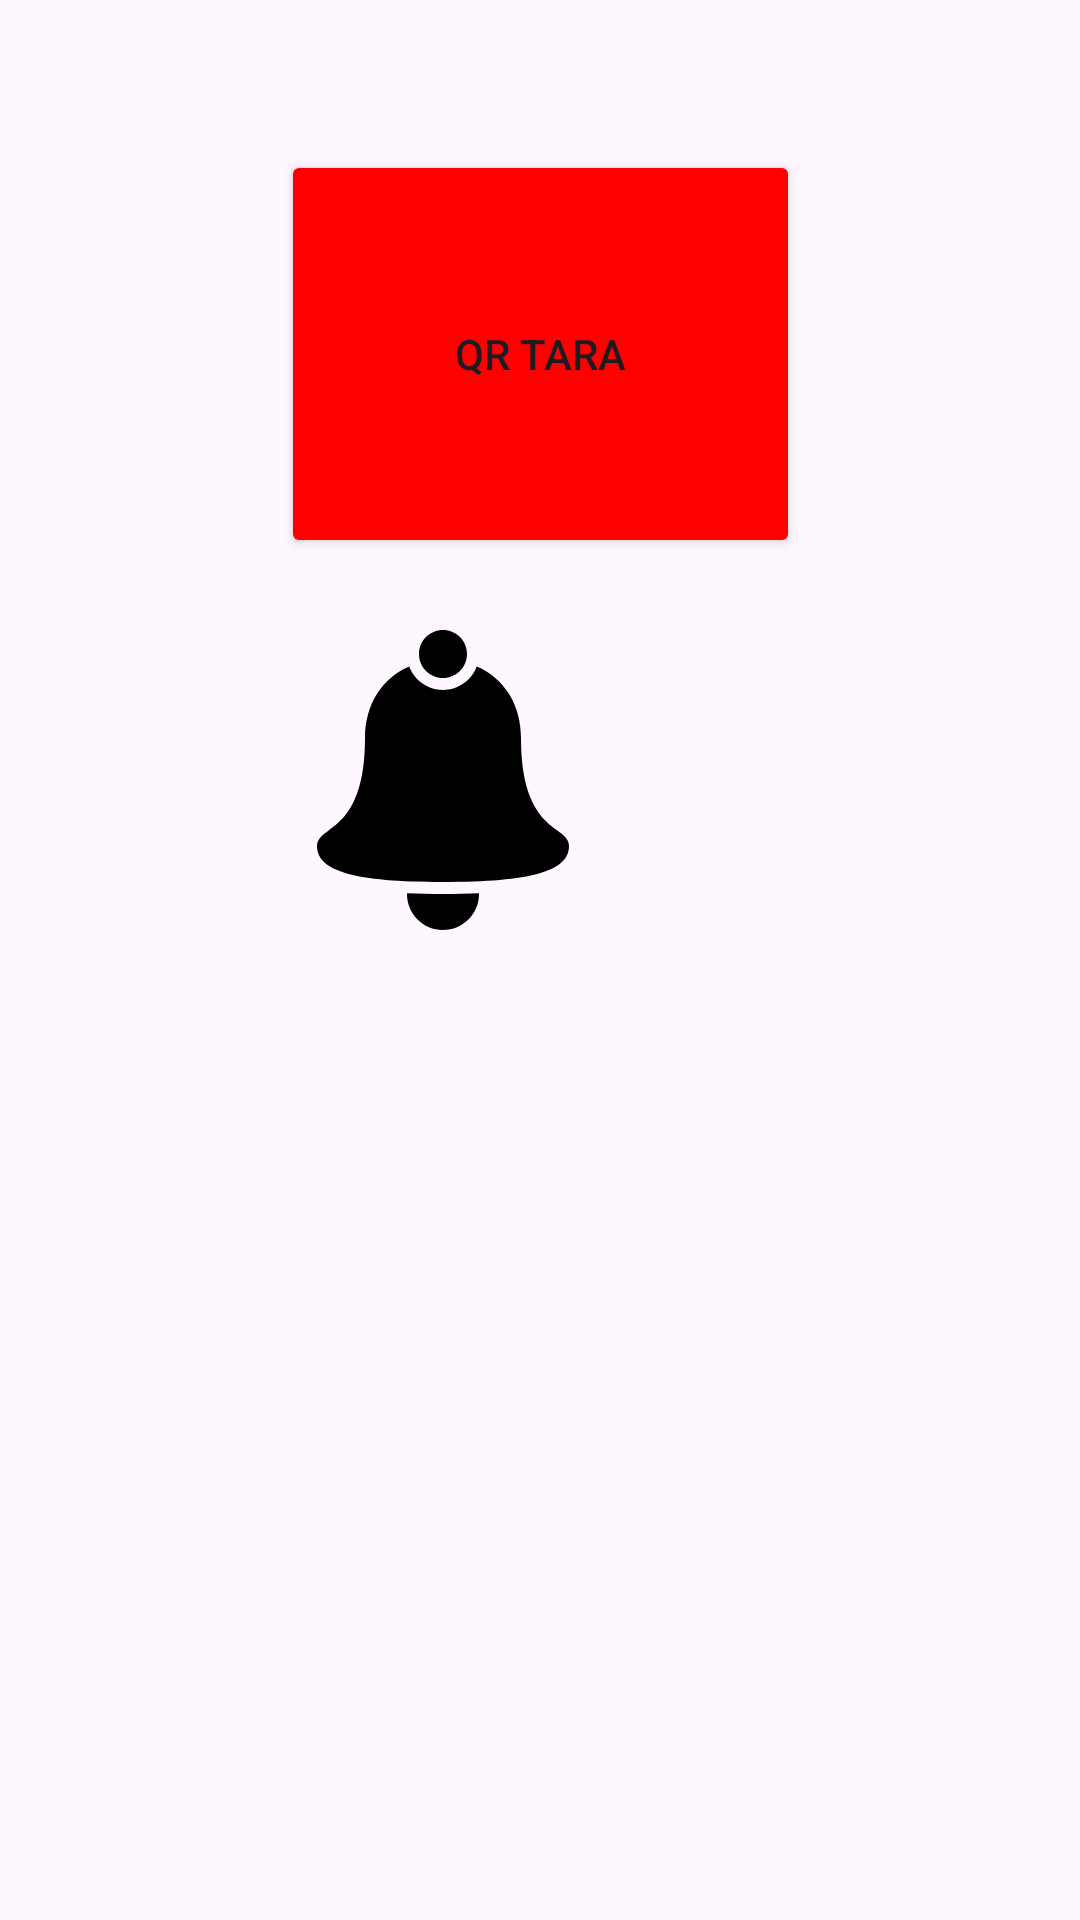

Where to tap for icons on this 1080×1920 app screen, as point (x, y):
notification: point (443, 780)
